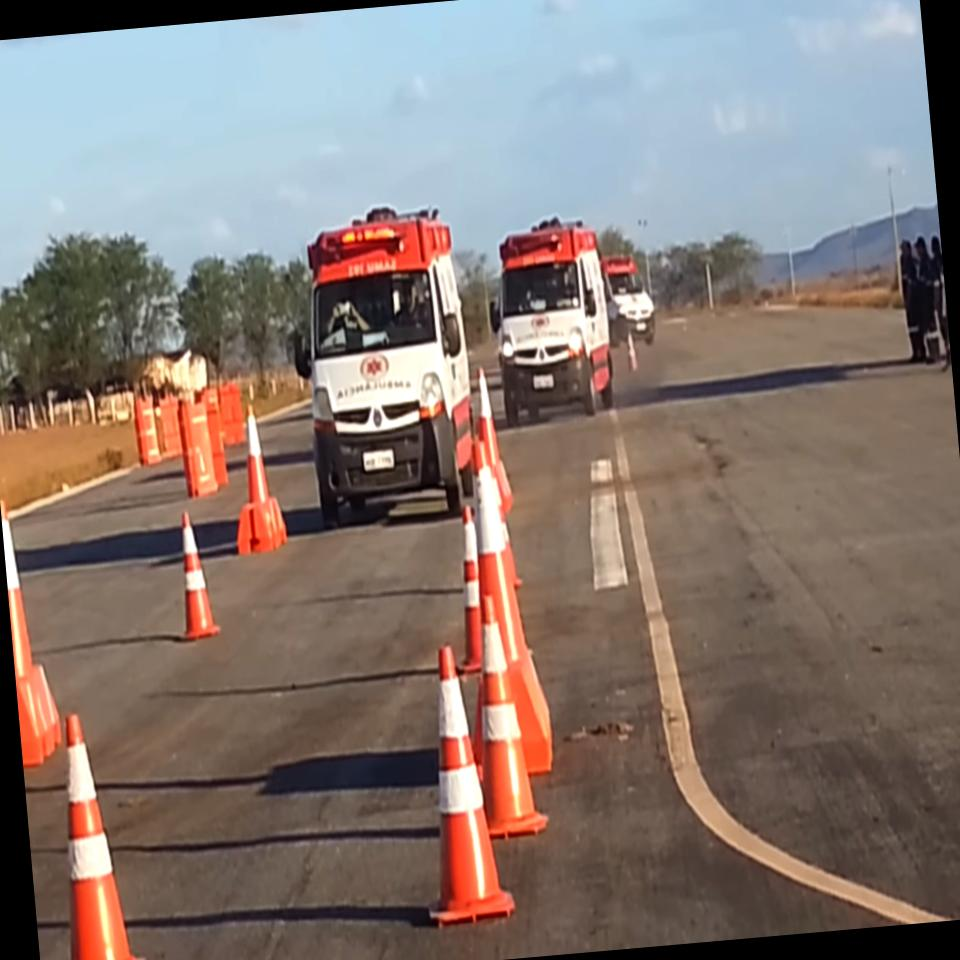bombeiro: (280, 198, 489, 528), (480, 212, 620, 424)
